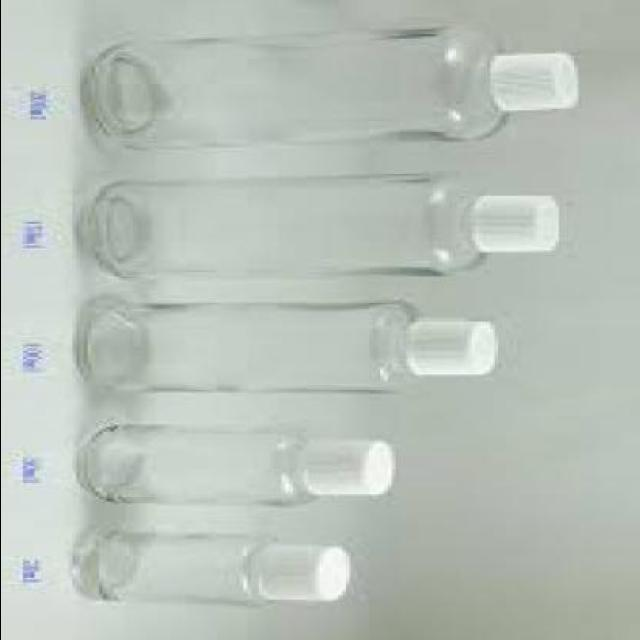kaca: (93, 25, 511, 143), (82, 169, 486, 275), (82, 298, 420, 388), (79, 427, 326, 503), (72, 531, 284, 600)
